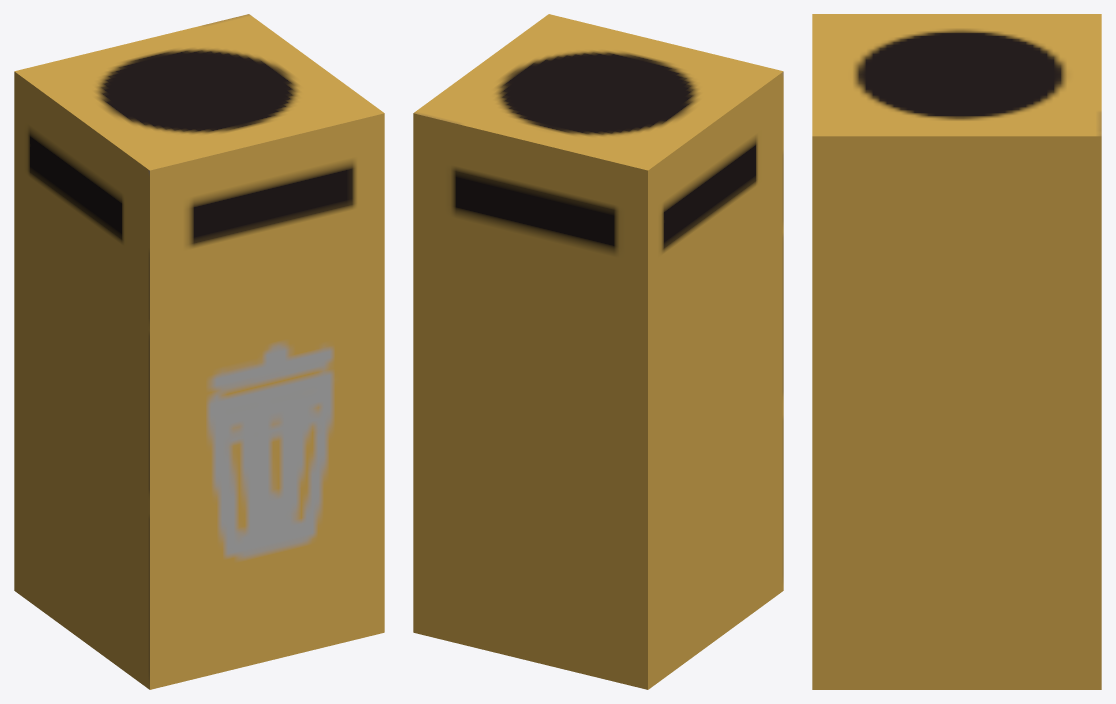
Rendered from PRP_TrashCan.fbx.
3 renders of one model, left to right at view 1: azimuth 30°, elevation 25°; view 2: azimuth 150°, elevation 25°; view 3: azimuth 270°, elevation 25°, orthographic. The views are drawn at different scales.
Visible parts, largest first — view 1: Cube.124; view 2: Cube.124; view 3: Cube.124.
Part boxes in pixels (x1=…): Cube.124: x1=14, y1=14, x2=384, y2=689; Cube.124: x1=413, y1=14, x2=783, y2=689; Cube.124: x1=812, y1=14, x2=1101, y2=689.
Bounding box in the file's own units: 84.63 × 179 × 84.63.
